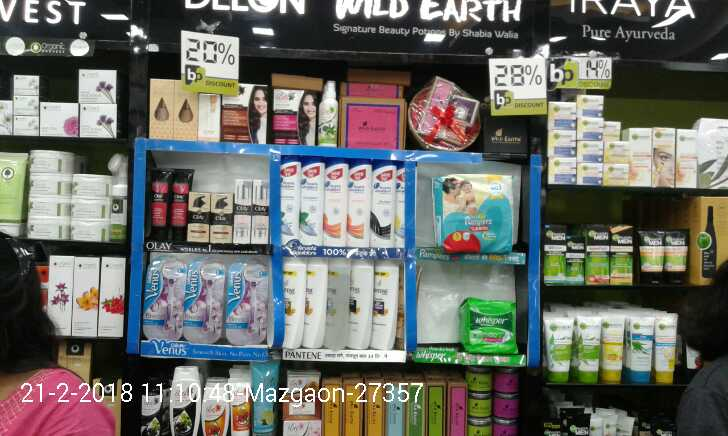venus: (224, 259, 269, 344), (185, 262, 224, 344), (146, 262, 185, 338)
